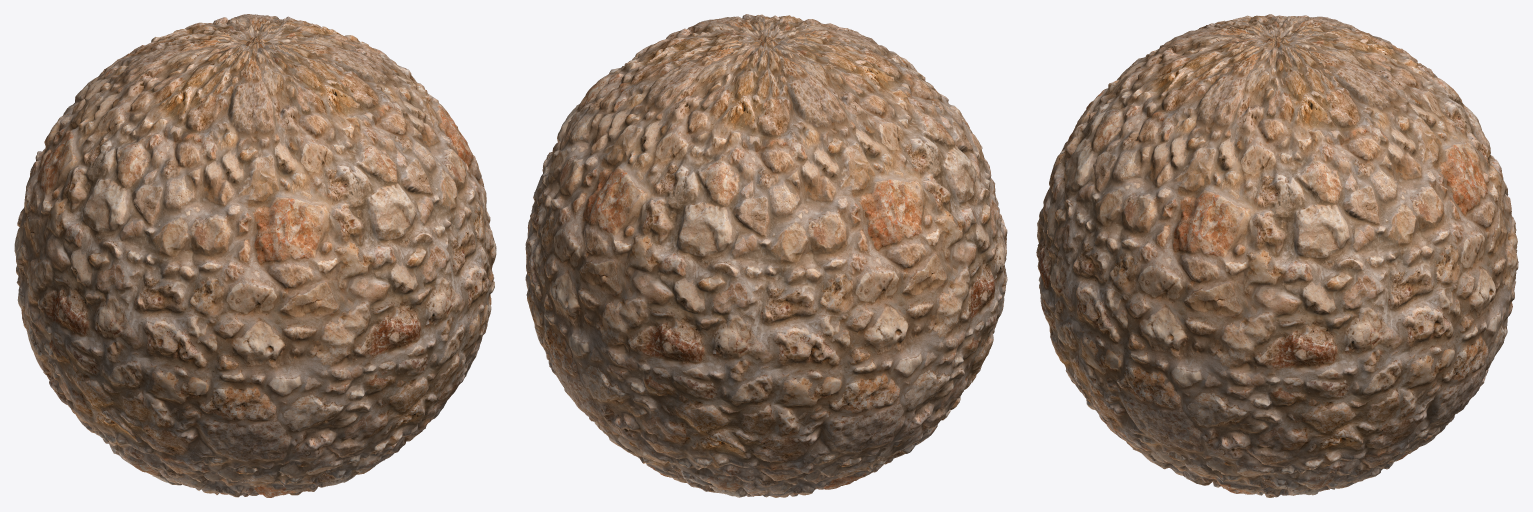
Rendered from medieval_blocks_02_1k.gltf.
3 renders of one model, left to right at view 1: azimuth 30°, elevation 25°; view 2: azimuth 150°, elevation 25°; view 3: azimuth 270°, elevation 25°, orthographic.
Parts seen in each view (by area): view 1: sphere_gltf; view 2: sphere_gltf; view 3: sphere_gltf.
Boxes of the visible parts, <box> form: sphere_gltf: <box>14,14,496,497</box>; sphere_gltf: <box>525,14,1007,497</box>; sphere_gltf: <box>1036,14,1518,497</box>.
Bounding box in the file's own units: 1.52 × 1.52 × 1.52.
1 material, 1 textured.
